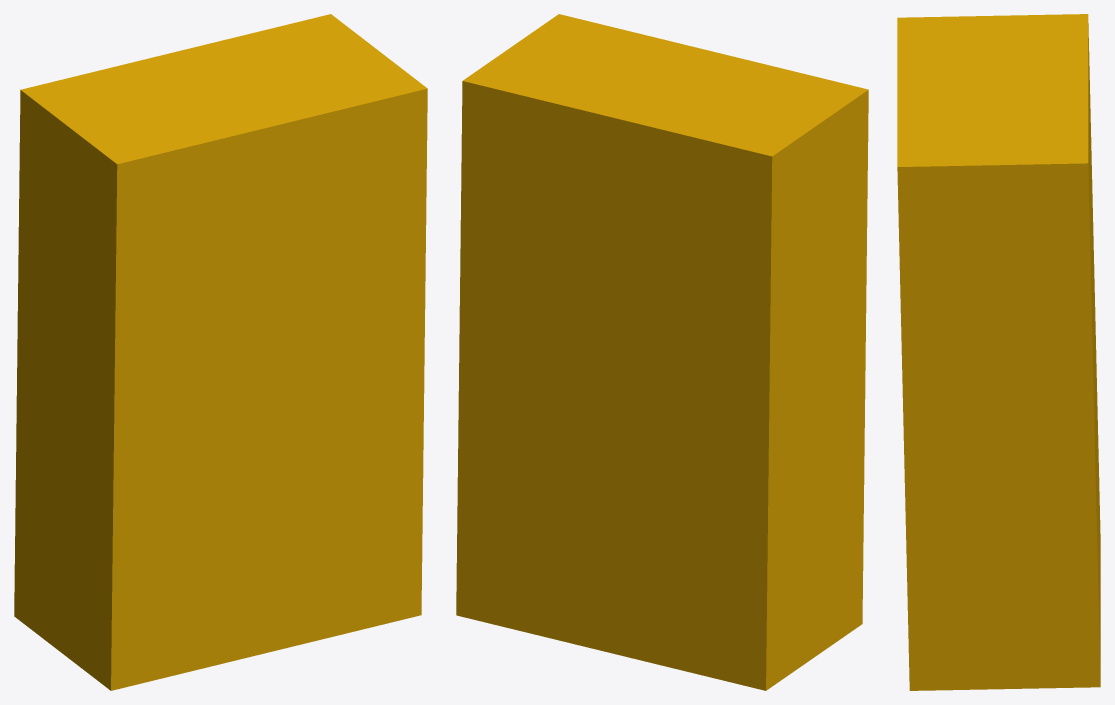
File: Medication_01.fbx
3 views of the same model, side by side, from view 1: azimuth 30°, elevation 25°; view 2: azimuth 150°, elevation 25°; view 3: azimuth 270°, elevation 25° (orthographic).
Visible parts, largest first — view 1: Medication_01; view 2: Medication_01; view 3: Medication_01.
Part boxes in pixels (x1=…): Medication_01: x1=14, y1=14, x2=427, y2=690; Medication_01: x1=456, y1=14, x2=868, y2=690; Medication_01: x1=897, y1=14, x2=1100, y2=690.
Size of the model in its own units: 6.48 by 10.66 by 3.72.
